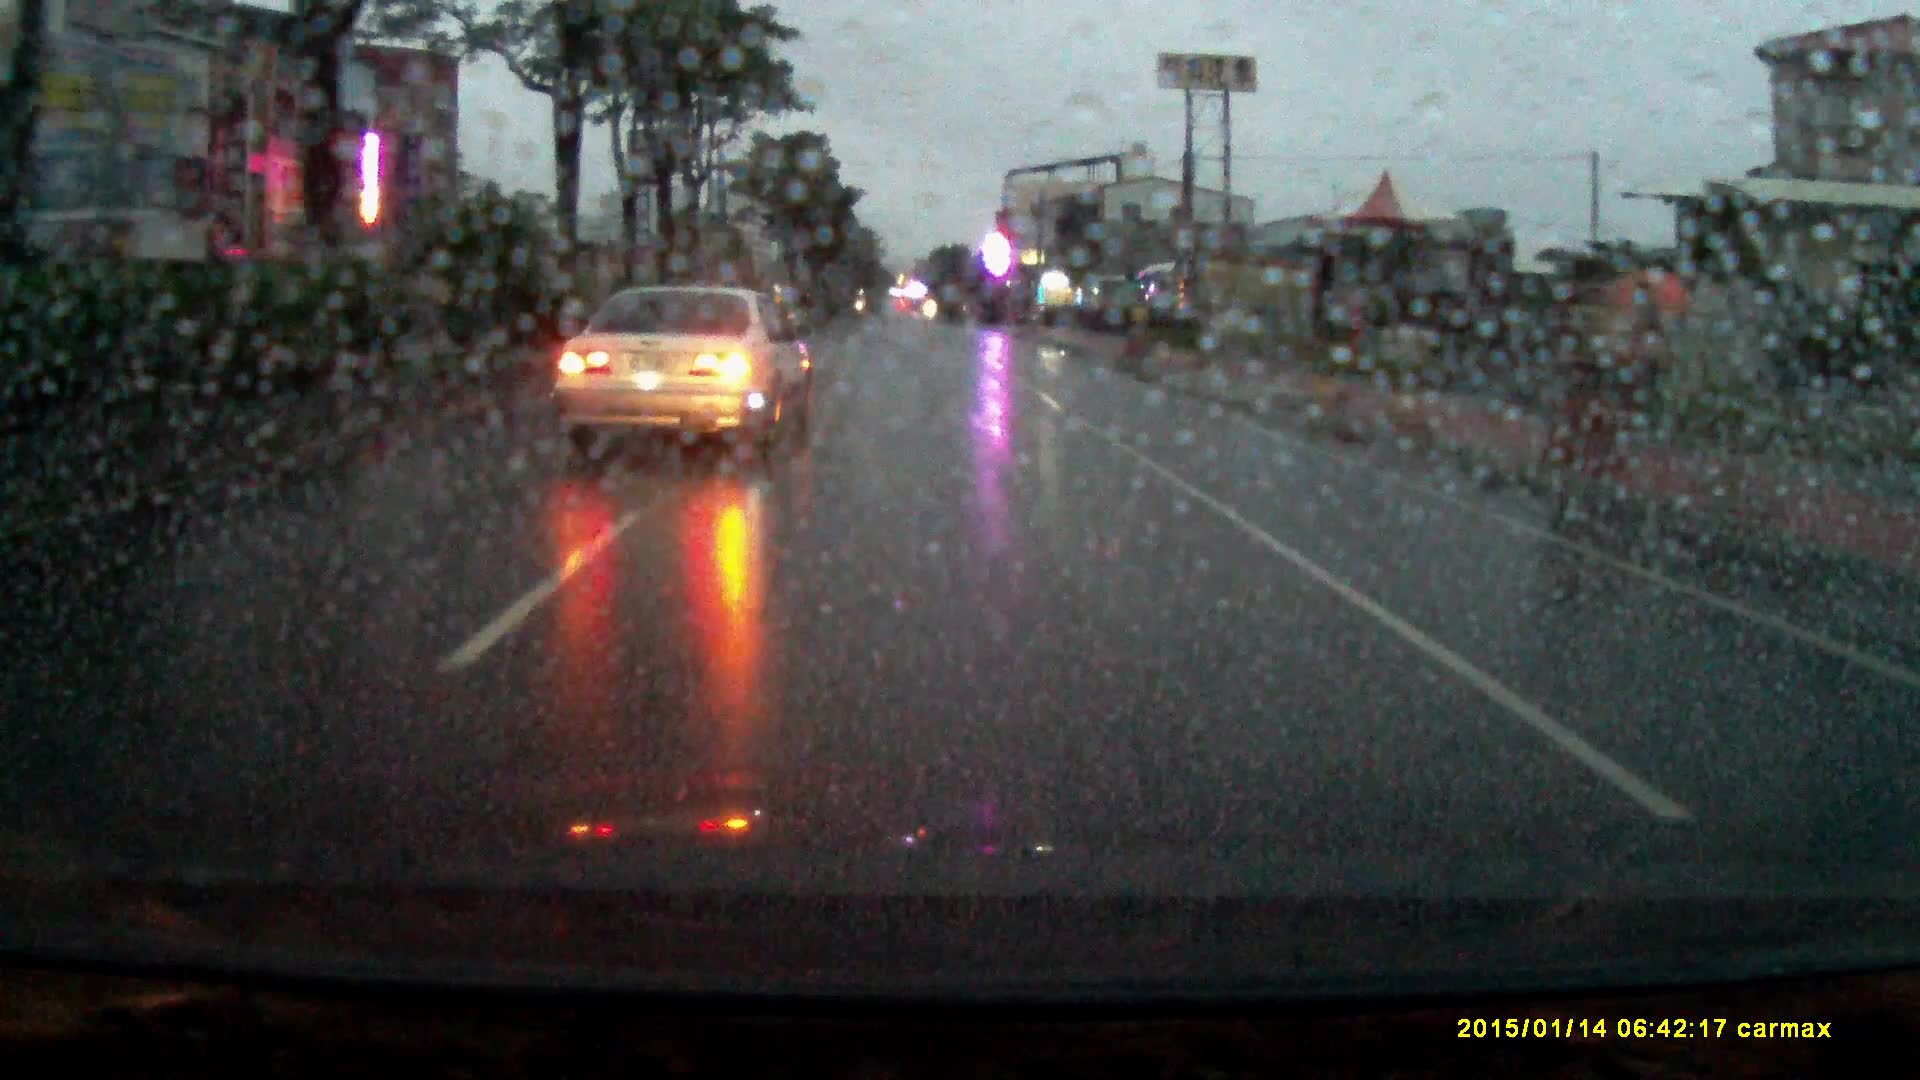pedestrian: (1600, 264, 1700, 487)
vehicle: (547, 286, 818, 465)
